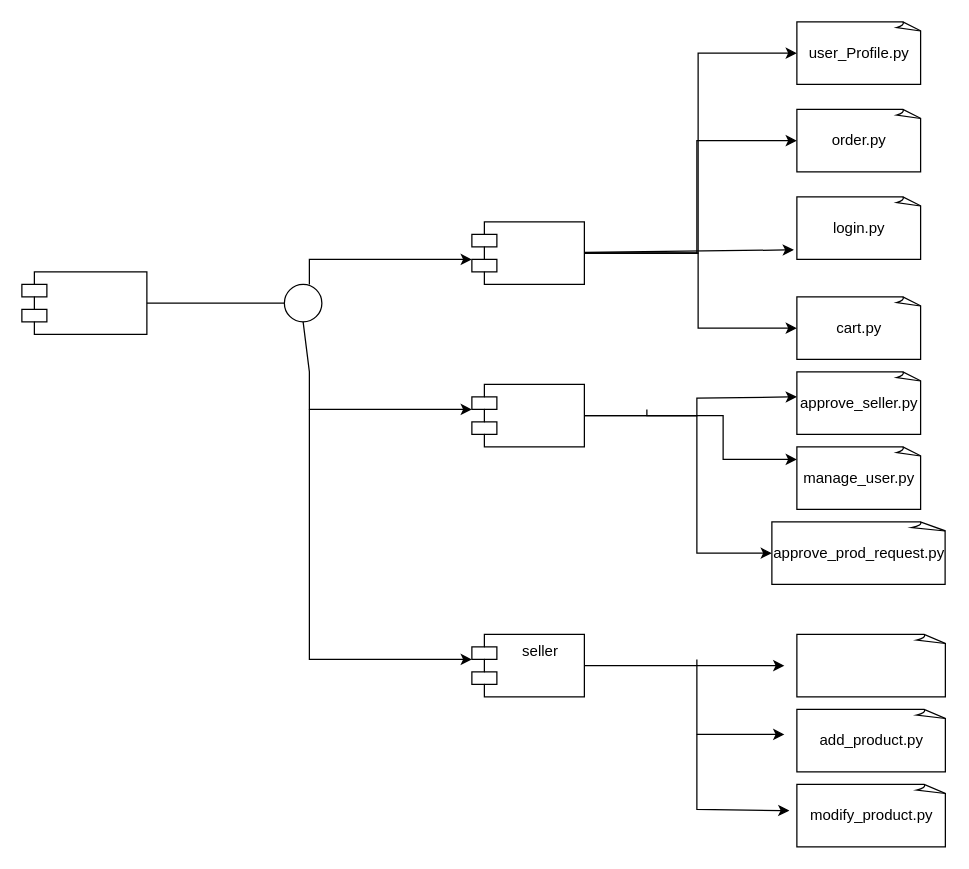
Some shapes in this 969 by 869 pixel diagram are drawn without their labels. Here are the shapes that lost their labels. From the top down, the centre of each, then its label:
At point 527,252: "user".
At point 84,302: "AQUEON".
At point 527,415: "Admin".
At point 871,665: "seller_profile.py".
